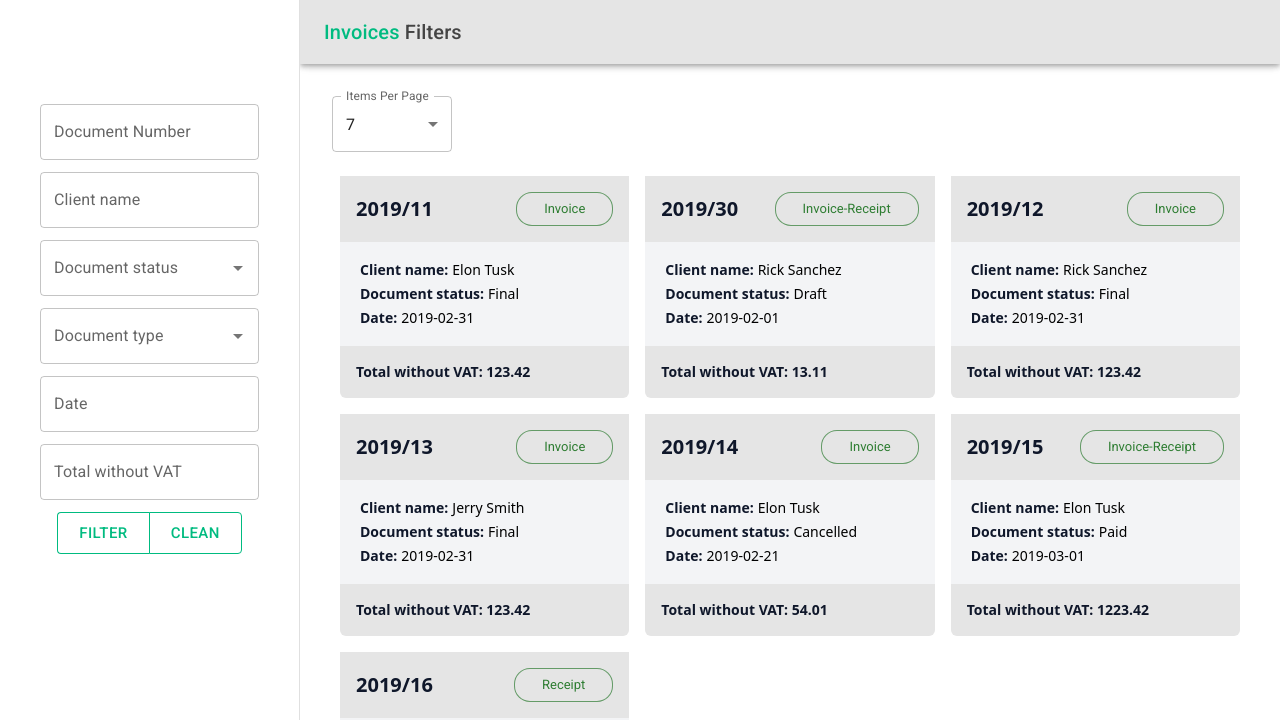
Scenario: 3 - Test the card filter › should be possible to filter by document number
Type "17" into the field labelled "Document Number" at (150, 132), box [40,104,259,160]
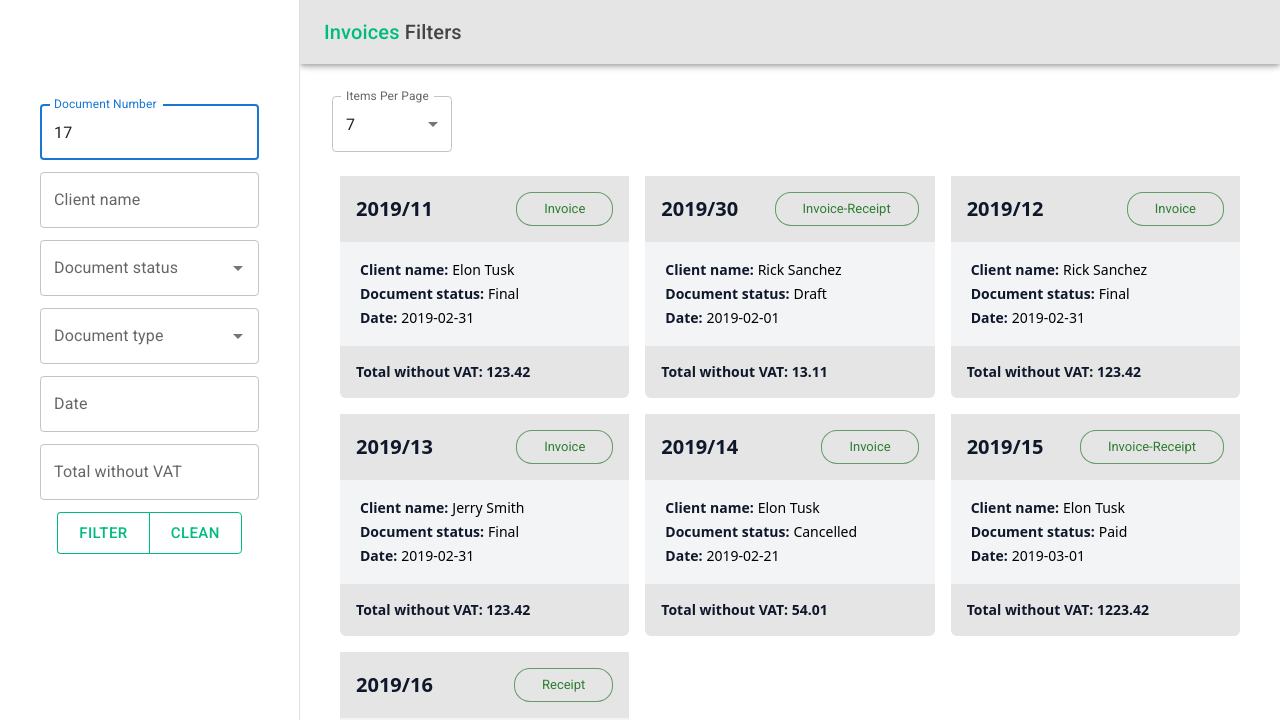
Click the button "Filter" at (103, 533), box [57,512,150,554]
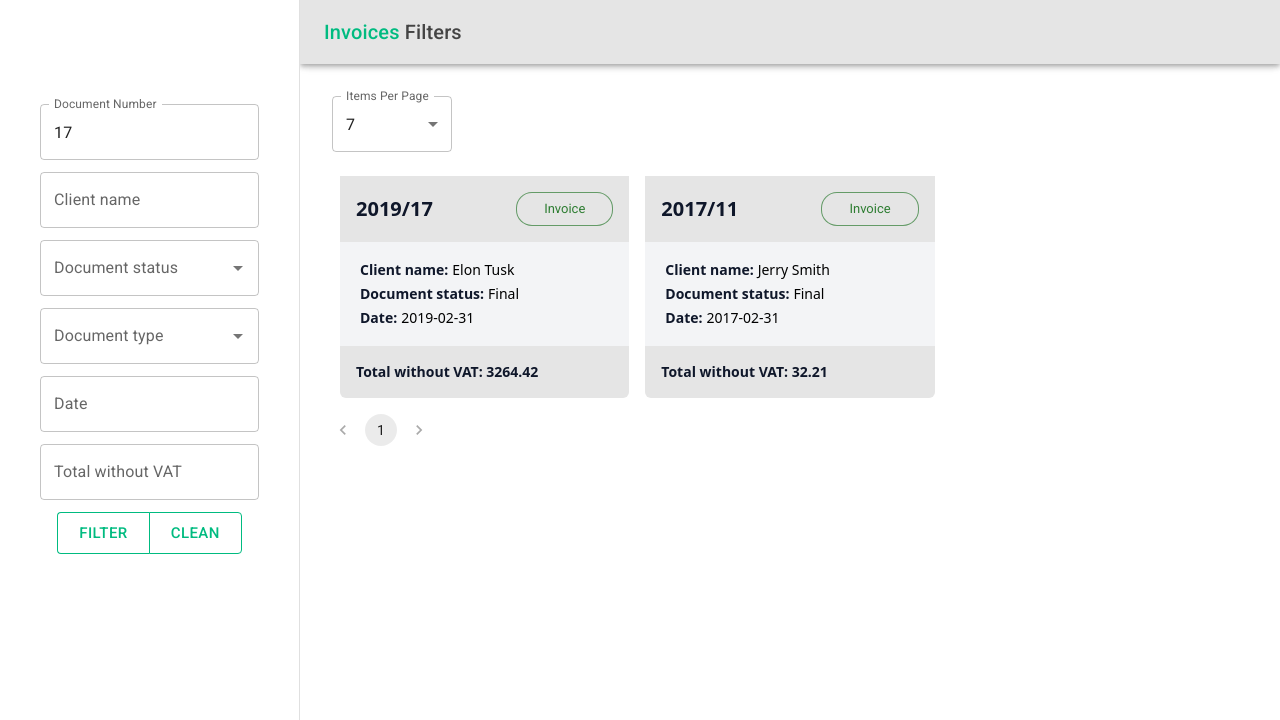
Result: the number of headings "2019/17" is 2 at [356,195,433,223]; [661,195,738,223]
